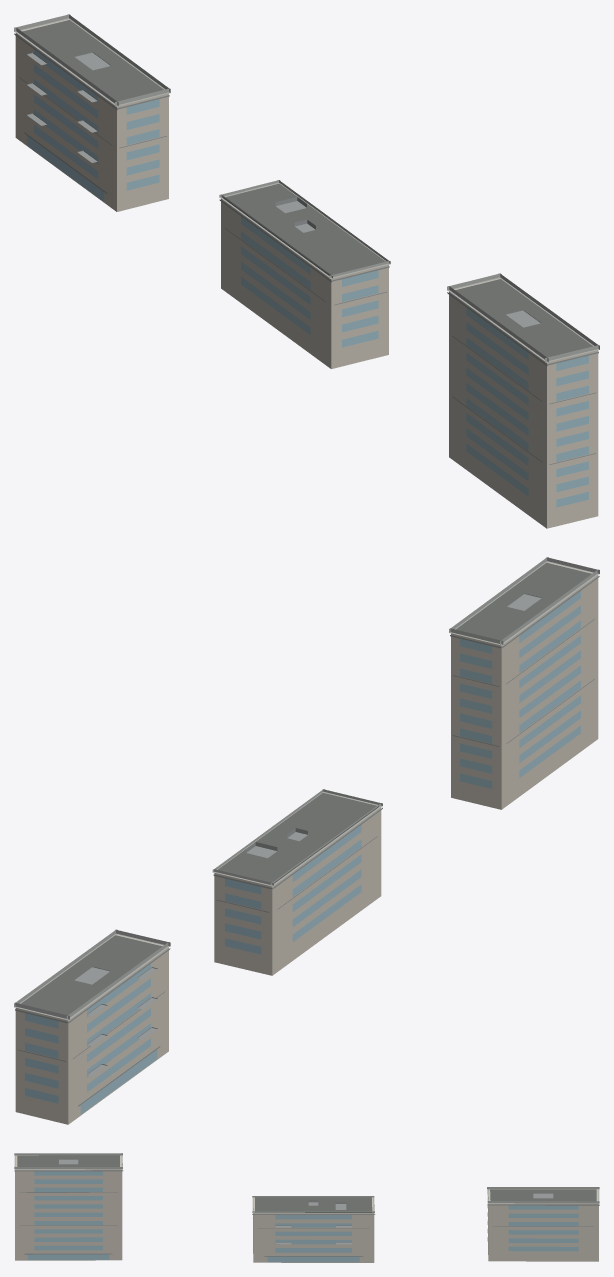
File: tile-m004-p002.glb
3 views of the same model, one above another, from view 1: azimuth 30°, elevation 25°; view 2: azimuth 150°, elevation 25°; view 3: azimuth 270°, elevation 25° (orthographic). The views are drawn at different scales.
Parts seen in each view (by area): view 1: building-0062-mesh-0, building-0067-mesh-6, building-0072-mesh-13, building-0062-mesh-1, building-0072-mesh-14, building-0067-mesh-10, building-0067-mesh-7, building-0072-mesh-17, building-0062-mesh-3, building-0072-mesh-18, building-0062-mesh-4, building-0067-mesh-11 (+2 smaller); view 2: building-0062-mesh-0, building-0067-mesh-6, building-0072-mesh-13, building-0062-mesh-1, building-0072-mesh-14, building-0067-mesh-10, building-0067-mesh-7, building-0072-mesh-17, building-0062-mesh-3, building-0072-mesh-18, building-0062-mesh-4, building-0067-mesh-11; view 3: building-0062-mesh-0, building-0072-mesh-13, building-0067-mesh-6, building-0062-mesh-1, building-0067-mesh-7, building-0072-mesh-14, building-0067-mesh-10, building-0072-mesh-17, building-0062-mesh-3, building-0072-mesh-18, building-0062-mesh-4, building-0067-mesh-11 (+4 smaller).
Part boxes in pixels (x1=…): building-0062-mesh-0: x1=449, y1=278, x2=598, y2=528; building-0067-mesh-6: x1=221, y1=185, x2=388, y2=368; building-0072-mesh-13: x1=15, y1=19, x2=168, y2=211; building-0062-mesh-1: x1=466, y1=307, x2=588, y2=507; building-0072-mesh-14: x1=27, y1=49, x2=159, y2=201; building-0067-mesh-10: x1=223, y1=183, x2=385, y2=275; building-0067-mesh-7: x1=241, y1=216, x2=378, y2=347; building-0072-mesh-17: x1=22, y1=20, x2=163, y2=101; building-0062-mesh-3: x1=455, y1=279, x2=592, y2=357; building-0072-mesh-18: x1=14, y1=14, x2=170, y2=106; building-0062-mesh-4: x1=447, y1=273, x2=599, y2=362; building-0067-mesh-11: x1=219, y1=180, x2=390, y2=278; building-0062-mesh-0: x1=451, y1=562, x2=598, y2=809; building-0067-mesh-6: x1=214, y1=793, x2=381, y2=975; building-0072-mesh-13: x1=15, y1=935, x2=168, y2=1124; building-0062-mesh-1: x1=460, y1=591, x2=580, y2=788; building-0072-mesh-14: x1=25, y1=963, x2=157, y2=1114; building-0067-mesh-10: x1=218, y1=793, x2=378, y2=883; building-0067-mesh-7: x1=225, y1=825, x2=361, y2=954; building-0072-mesh-17: x1=21, y1=935, x2=162, y2=1015; building-0062-mesh-3: x1=456, y1=562, x2=591, y2=640; building-0072-mesh-18: x1=14, y1=929, x2=170, y2=1020; building-0062-mesh-4: x1=449, y1=557, x2=599, y2=645; building-0067-mesh-11: x1=212, y1=789, x2=382, y2=886; building-0062-mesh-0: x1=15, y1=1156, x2=122, y2=1260; building-0072-mesh-13: x1=488, y1=1189, x2=598, y2=1261; building-0067-mesh-6: x1=253, y1=1197, x2=374, y2=1262; building-0062-mesh-1: x1=28, y1=1171, x2=109, y2=1259; building-0067-mesh-7: x1=267, y1=1215, x2=359, y2=1262; building-0072-mesh-14: x1=487, y1=1204, x2=578, y2=1251; building-0067-mesh-10: x1=255, y1=1197, x2=372, y2=1212; building-0072-mesh-17: x1=490, y1=1189, x2=596, y2=1201; building-0062-mesh-3: x1=17, y1=1155, x2=119, y2=1166; building-0072-mesh-18: x1=487, y1=1187, x2=599, y2=1203; building-0062-mesh-4: x1=14, y1=1153, x2=122, y2=1169; building-0067-mesh-11: x1=252, y1=1196, x2=374, y2=1213.
Size of the model in its own units: 16.52 by 37.7 by 214.
